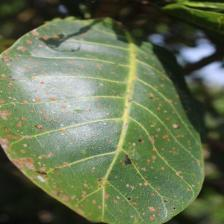red rust: (0, 21, 201, 223)
